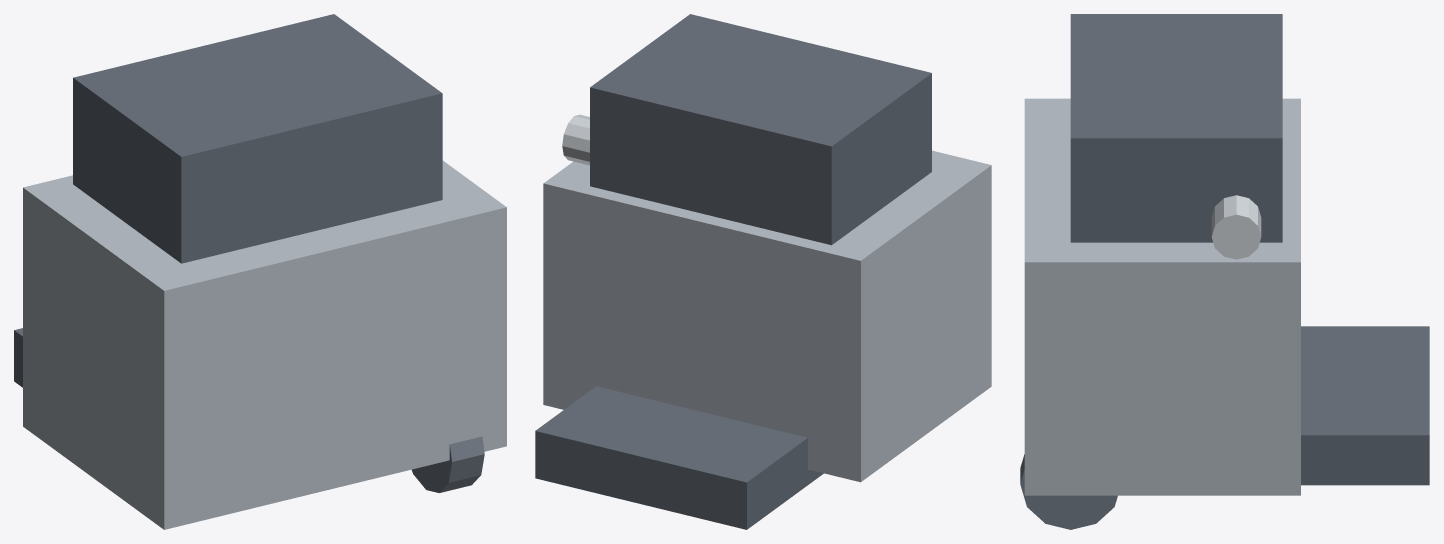
File: recicladora.glb
3 views of the same model, side by side, from view 1: azimuth 30°, elevation 25°; view 2: azimuth 150°, elevation 25°; view 3: azimuth 270°, elevation 25° (orthographic). The views are drawn at different scales.
Visible parts, largest first — view 1: chasis, tolva, rueda; view 2: chasis, tolva, cinta, rodillo; view 3: chasis, tolva, cinta, rodillo, rueda.
Boxes of the visible parts, x1,y1,x2,y2 form: chasis: (23,160,506,529); tolva: (73,14,442,263); rueda: (411,436,484,492); chasis: (543,150,991,482); tolva: (590,14,931,245); cinta: (535,386,823,529); rodillo: (562,114,589,165); chasis: (1024,98,1300,495); tolva: (1070,14,1282,242); cinta: (1301,326,1429,485); rodillo: (1211,195,1261,259); rueda: (1020,454,1117,529).
Size of the model in its own units: 0.8217 by 0.9 by 0.8707.
